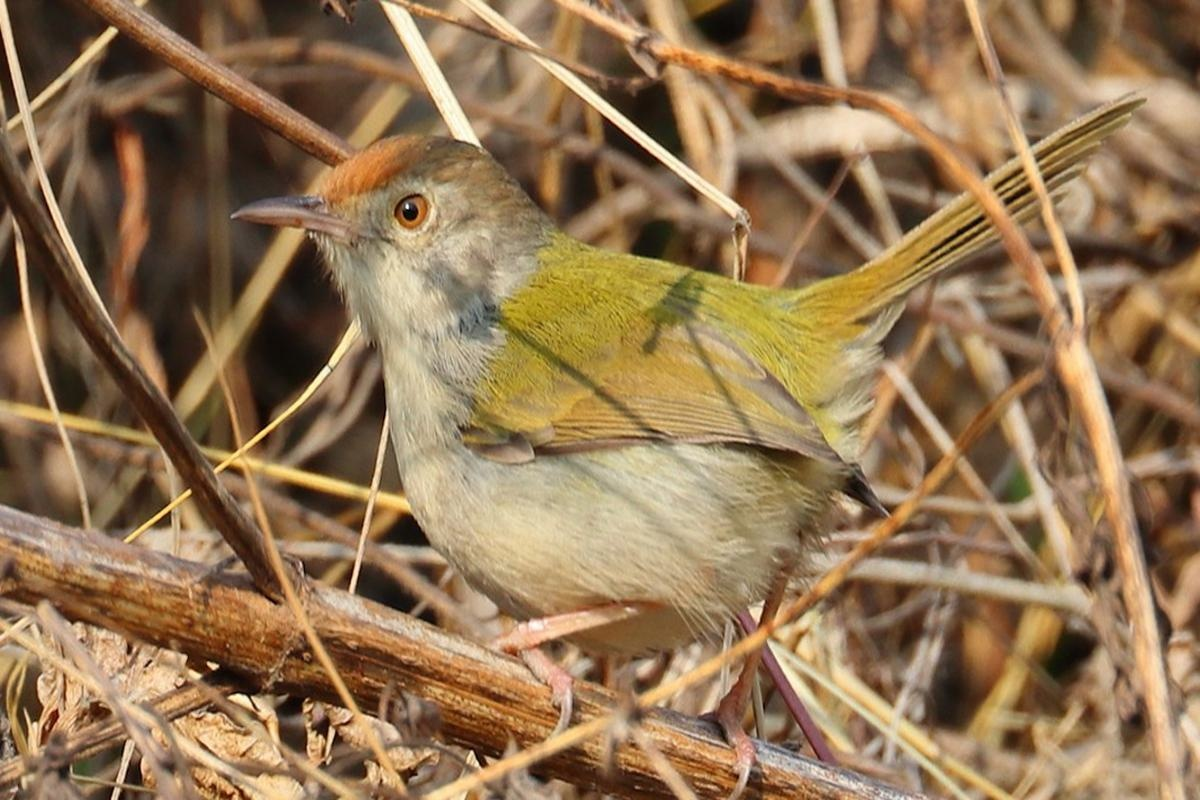tailorbird: (239, 66, 1151, 733)
